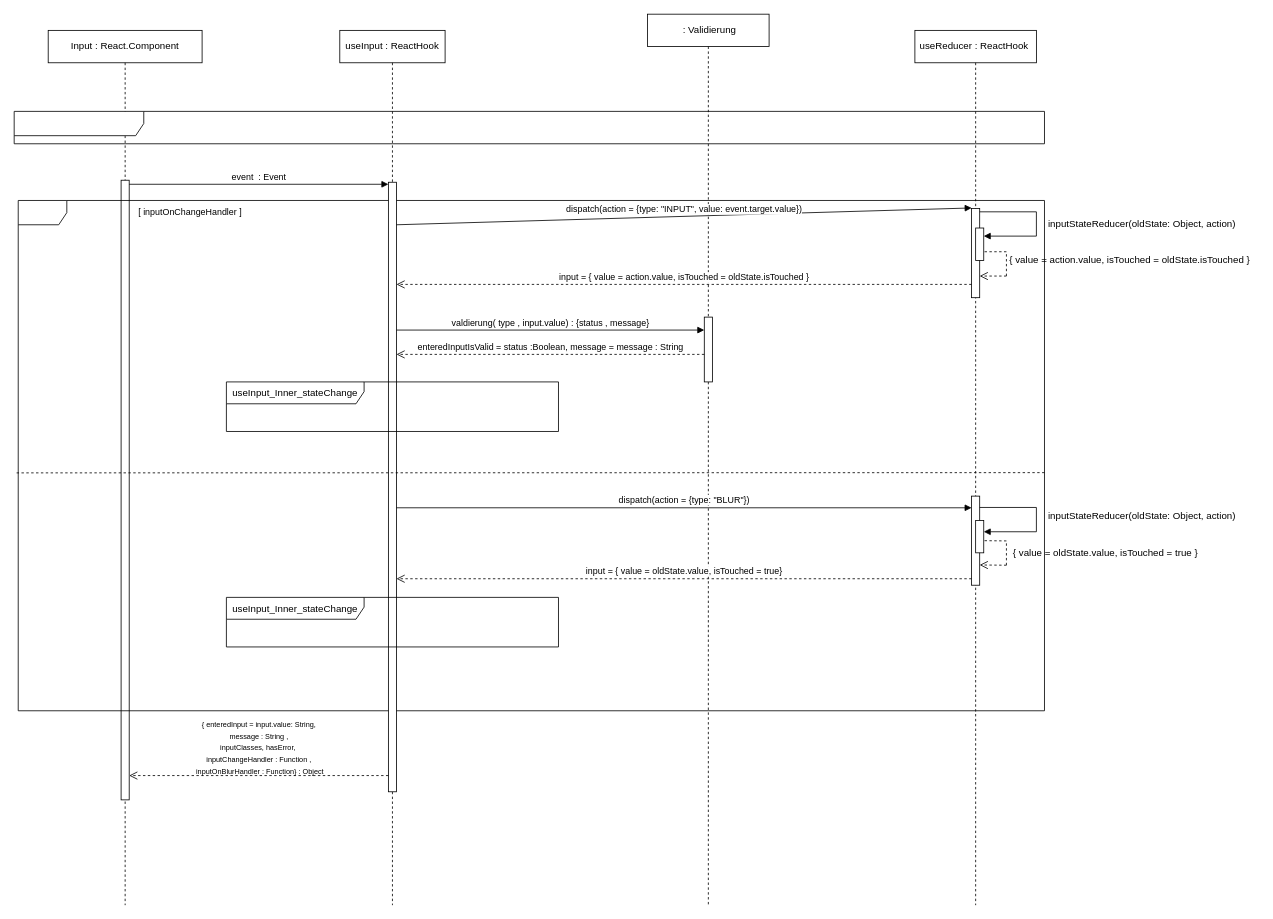
This 1273x919 diagram has some shape labels left out. The centre of each missing label's shape, as x and y in pixels:
alt: (530,455)
initialize useInput Hook: (528,127)
